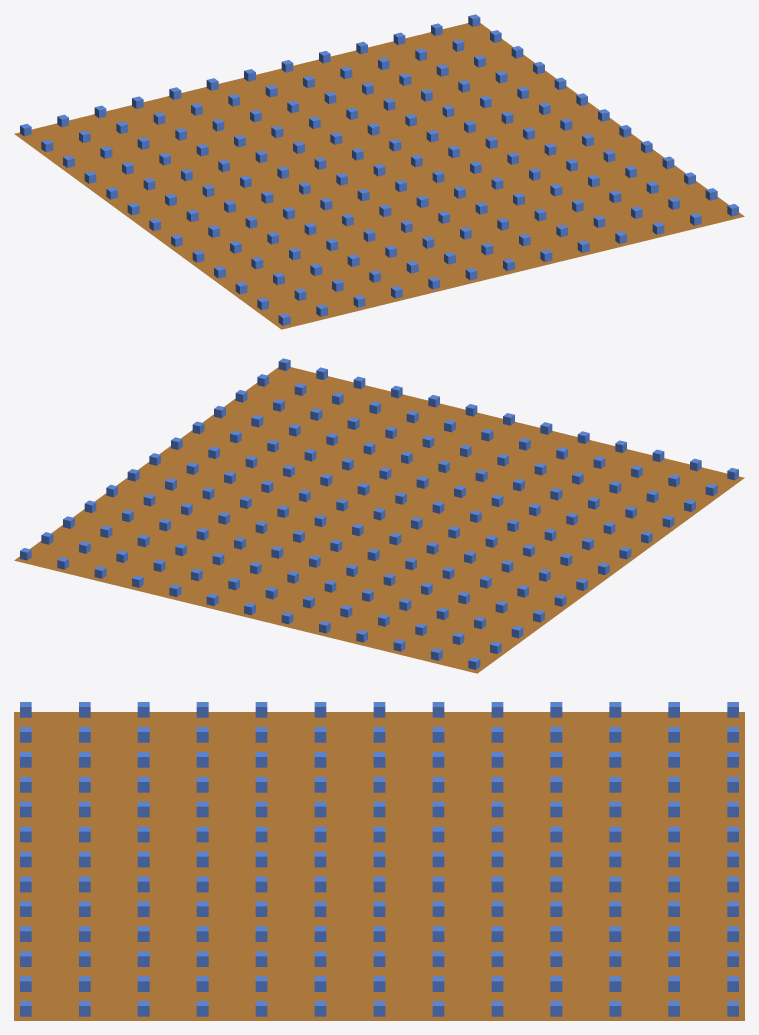
File: sandbox.gltf
3 views of the same model, one above another, from view 1: azimuth 30°, elevation 25°; view 2: azimuth 150°, elevation 25°; view 3: azimuth 270°, elevation 25° (orthographic). The views are drawn at different scales.
Visible parts, largest first — view 1: floor, cube; view 2: floor, cube; view 3: floor, cube.
Boxes of the visible parts, x1,y1,x2,y2 form: floor: [14, 23, 744, 329]; cube: [20, 14, 738, 325]; floor: [14, 367, 744, 673]; cube: [20, 358, 738, 669]; floor: [14, 712, 744, 1020]; cube: [20, 702, 738, 1016].
Bounding box in the file's own units: 124 × 2.3 × 124.
